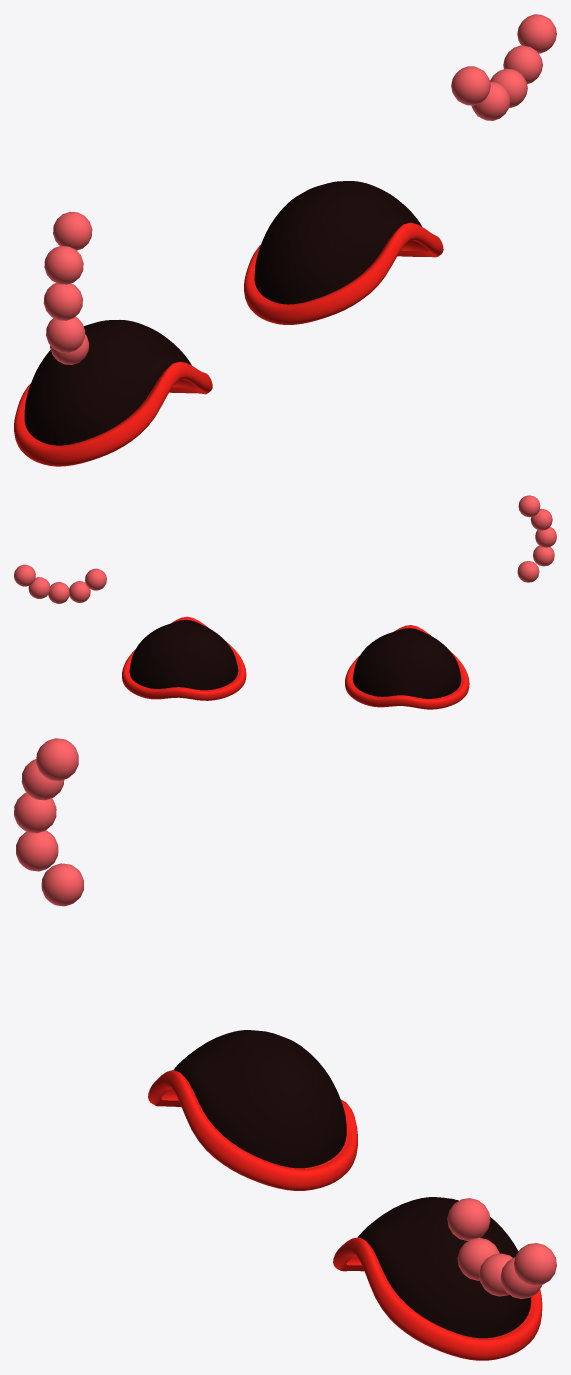
The picture shows the model from 3 angles, top to bottom: view 1: azimuth 30°, elevation 25°; view 2: azimuth 150°, elevation 25°; view 3: azimuth 270°, elevation 25°; orthographic projection. The views are drawn at different scales.
Parts seen in each view (by area): view 1: turtle_shell_002, turtle_shell_002.001, hand_decor_002.001, hand_decor_003.001; view 2: turtle_shell_002.001, turtle_shell_002, hand_decor_003.001, hand_decor_002.001; view 3: turtle_shell_002.001, turtle_shell_002, hand_decor_002.001, hand_decor_003.001.
Part boxes in pixels (x1,y1,x2,y2): turtle_shell_002: [244, 181, 443, 324]; turtle_shell_002.001: [14, 320, 212, 466]; hand_decor_002.001: [43, 211, 92, 364]; hand_decor_003.001: [451, 14, 556, 120]; turtle_shell_002.001: [345, 625, 469, 709]; turtle_shell_002: [122, 616, 246, 700]; hand_decor_003.001: [14, 564, 106, 603]; hand_decor_002.001: [517, 495, 556, 582]; turtle_shell_002.001: [148, 1030, 357, 1190]; turtle_shell_002: [333, 1197, 542, 1360]; hand_decor_002.001: [14, 738, 83, 906]; hand_decor_003.001: [447, 1198, 556, 1298].
Size of the model in its own units: 135 by 79.01 by 55.32.
